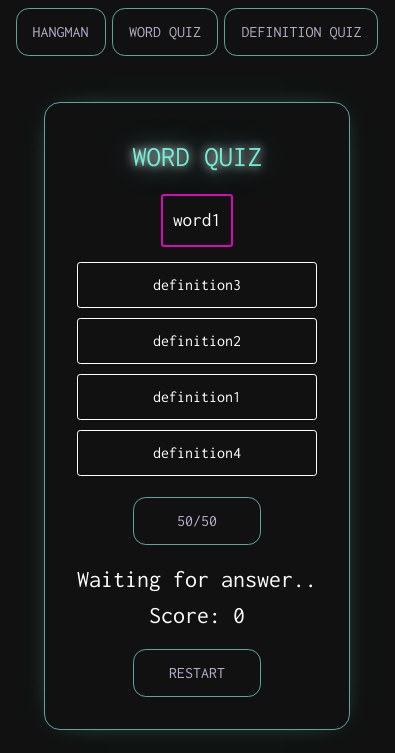
Test: QuizWord › should have div with test-id correct and not have div with test-id wrong after click correct answer
The width and height of the screenshot is (395, 753).
Step 1. Click the text "definition1" → (197, 396), box x1=153 y1=388 x2=241 y2=405
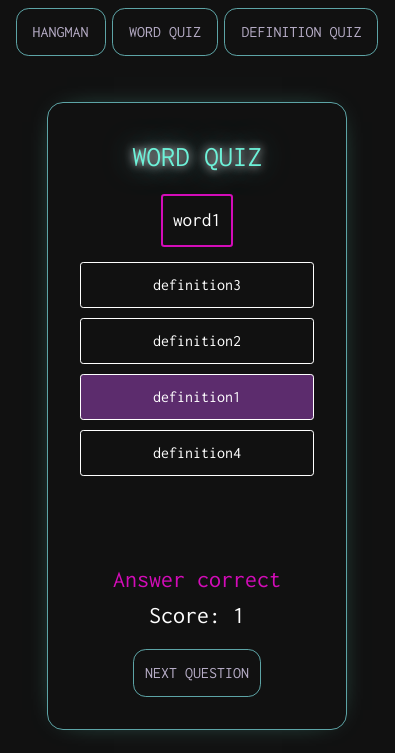
expect the text "Answer correct" is shown: met, box x1=113 y1=561 x2=281 y2=597
